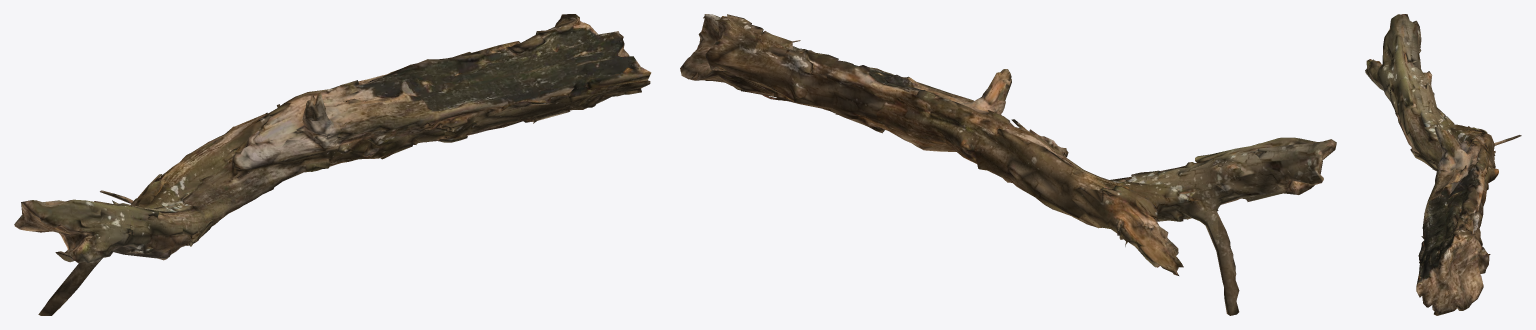
Rendered from dead_tree_trunk_02.glb.
3 views of the same model, side by side, from view 1: azimuth 30°, elevation 25°; view 2: azimuth 150°, elevation 25°; view 3: azimuth 270°, elevation 25° (orthographic). The views are drawn at different scales.
Parts seen in each view (by area): view 1: dead_tree_trunk_02; view 2: dead_tree_trunk_02; view 3: dead_tree_trunk_02.
Boxes of the visible parts, x1,y1,x2,y2 form: dead_tree_trunk_02: [14, 14, 651, 315]; dead_tree_trunk_02: [680, 14, 1336, 315]; dead_tree_trunk_02: [1365, 14, 1521, 315].
Size of the model in its own units: 4.05 by 1.05 by 1.05.
1 material, 1 textured.
